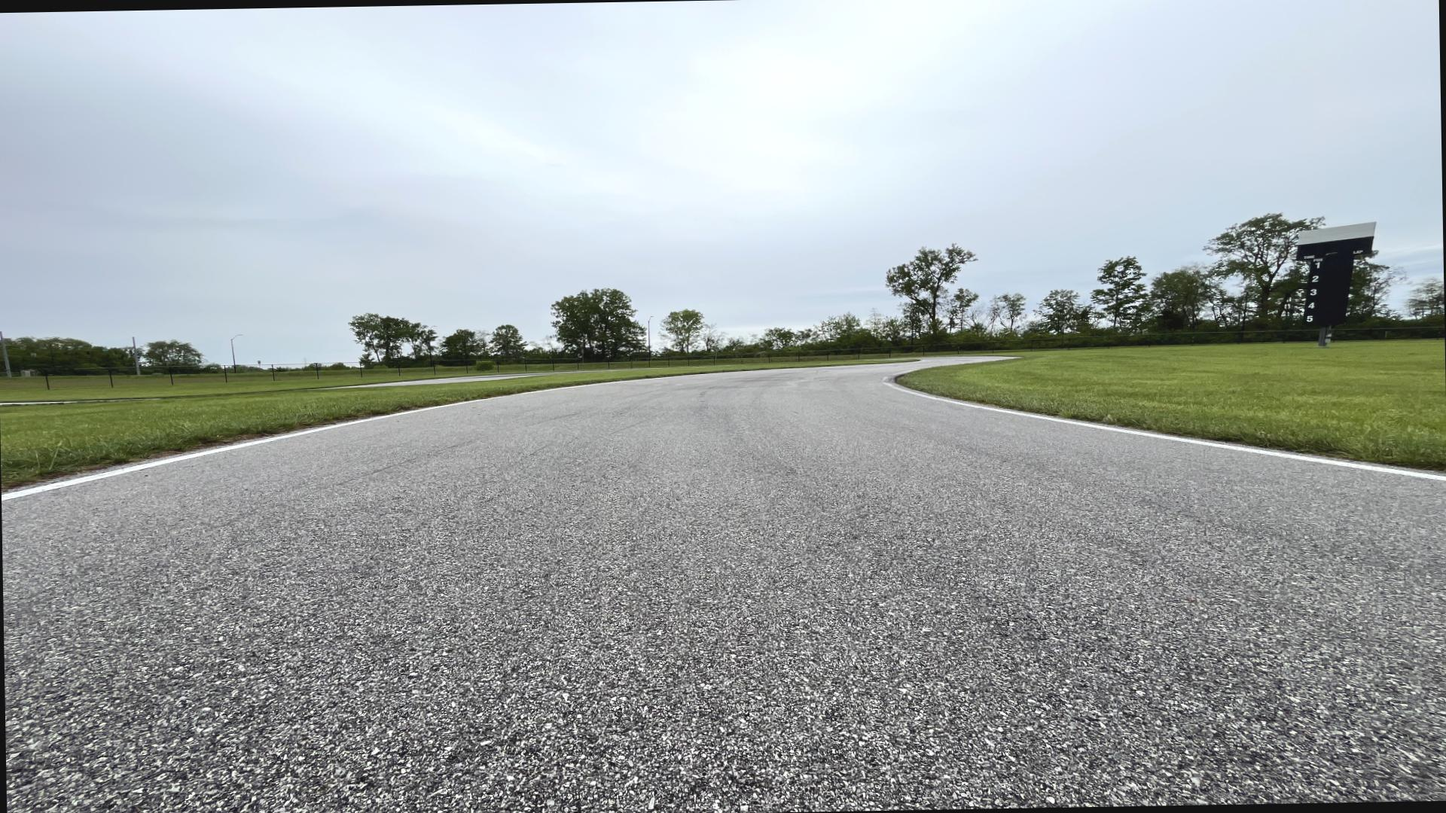white-line: (2, 371, 754, 504), (883, 370, 1445, 481)
